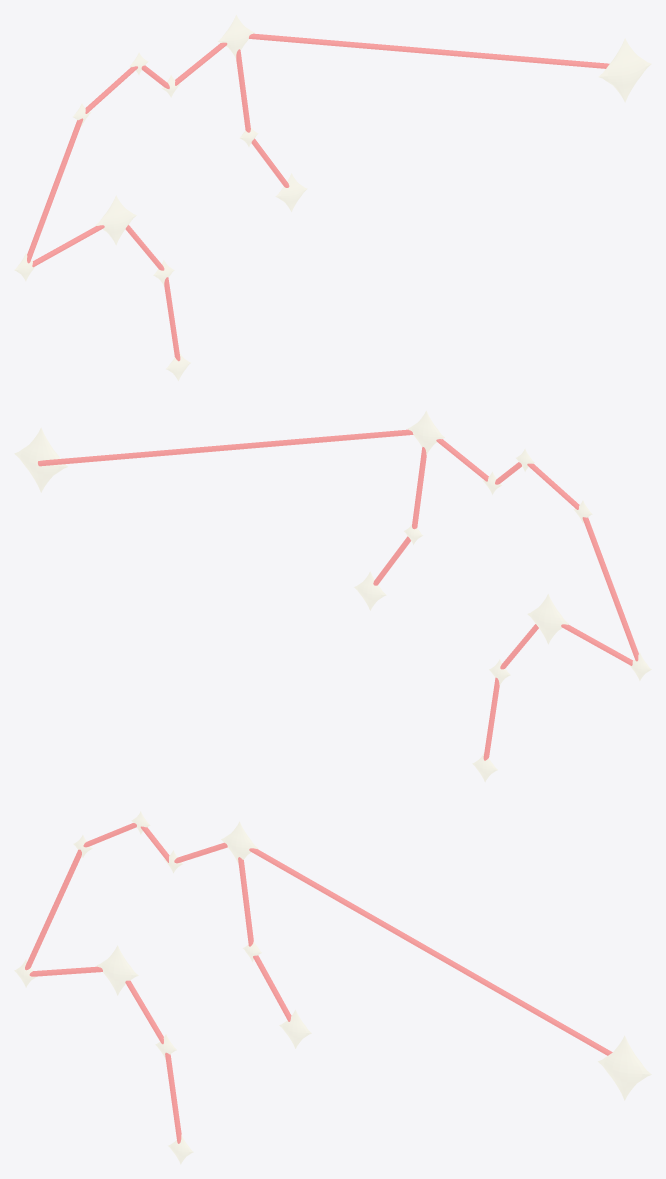
The model's file is sozvezdiya-vodoley.glb.
3 renders of one model, top to bottom at view 1: azimuth 30°, elevation 25°; view 2: azimuth 150°, elevation 25°; view 3: azimuth 330°, elevation 25°, orthographic.
Parts seen in each view (by area): view 1: Cylinder, Sphere.004, Sphere.003, Sphere; view 2: Cylinder, Sphere.004, Sphere.003, Sphere, Sphere.001; view 3: Cylinder, Sphere.004, Sphere.003, Sphere, Sphere.001.
Boxes of the visible parts, x1=… form: Cylinder: x1=27, y1=33, x2=609, y2=361; Sphere.004: x1=598, y1=38, x2=651, y2=102; Sphere.003: x1=95, y1=195, x2=136, y2=245; Sphere: x1=218, y1=15, x2=254, y2=58; Cylinder: x1=38, y1=429, x2=638, y2=760; Sphere.004: x1=14, y1=427, x2=67, y2=492; Sphere.003: x1=527, y1=594, x2=568, y2=644; Sphere: x1=407, y1=410, x2=444, y2=455; Sphere.001: x1=354, y1=571, x2=386, y2=610; Cylinder: x1=25, y1=823, x2=612, y2=1143; Sphere.004: x1=598, y1=1035, x2=651, y2=1100; Sphere.003: x1=97, y1=945, x2=138, y2=995; Sphere: x1=221, y1=821, x2=257, y2=863; Sphere.001: x1=279, y1=1009, x2=311, y2=1048.
Bounding box in the file's own units: 0.1505 × 0.0801 × 0.00559.
